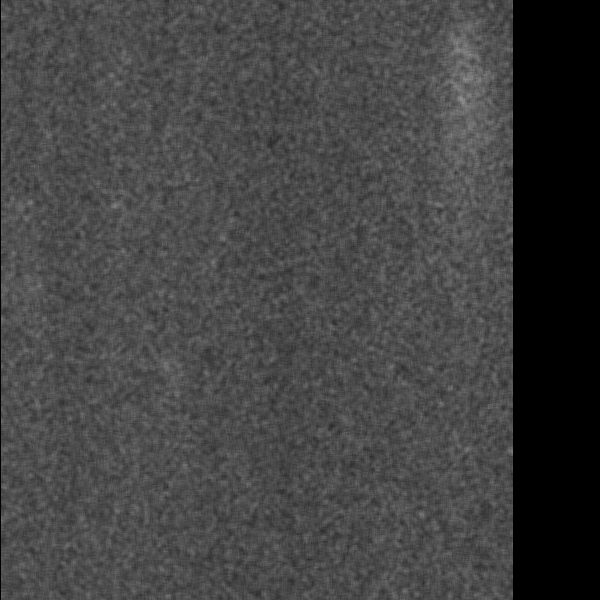spark: (444, 12, 481, 280), (153, 355, 176, 385)
